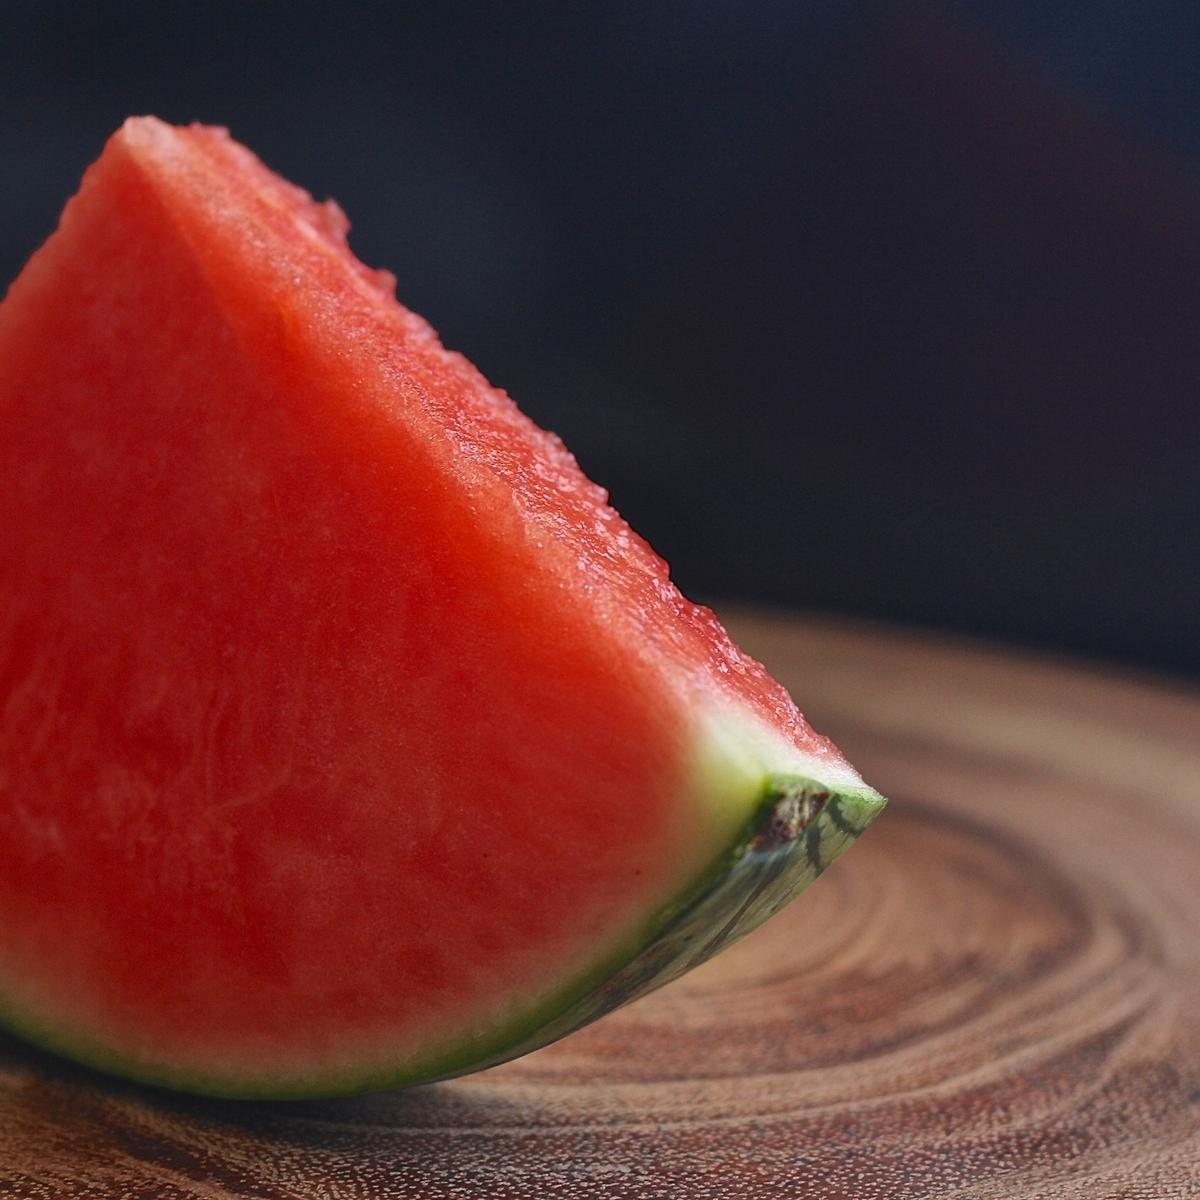Semangka: (1, 87, 909, 1141)
